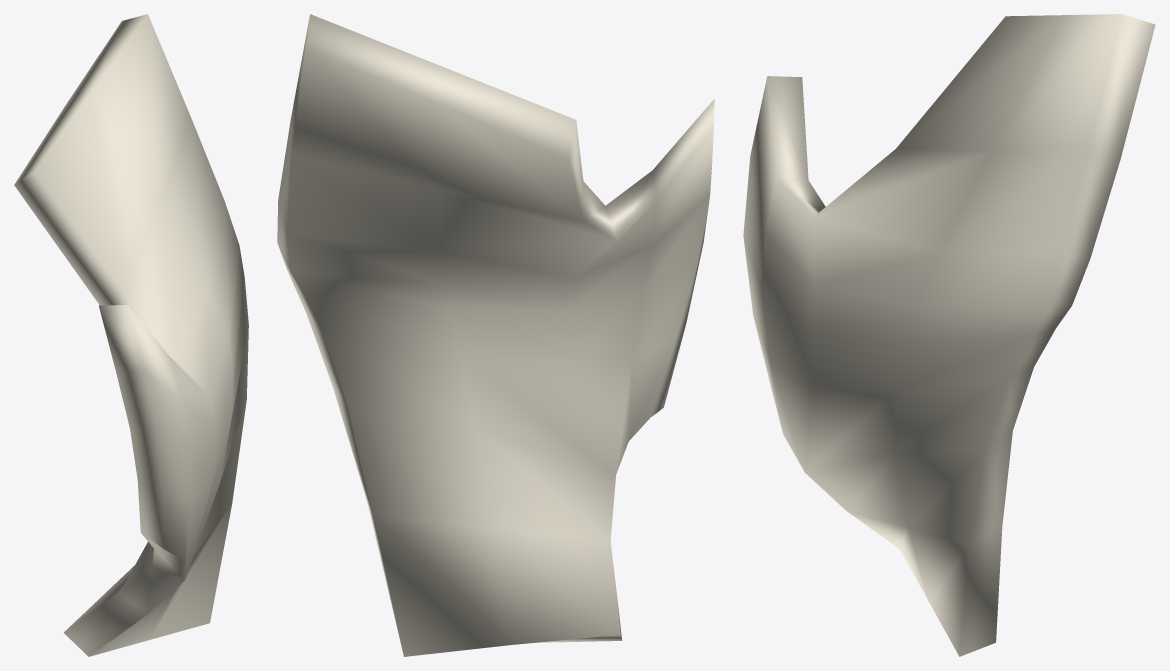
The picture shows the model from 3 angles, left to right: view 1: azimuth 30°, elevation 25°; view 2: azimuth 150°, elevation 25°; view 3: azimuth 270°, elevation 25°; orthographic projection. The views are drawn at different scales.
Visible parts, largest first — view 1: ZA_4bf8acf5245b0d05; view 2: ZA_4bf8acf5245b0d05; view 3: ZA_4bf8acf5245b0d05.
Part boxes in pixels (x1=…): ZA_4bf8acf5245b0d05: x1=14, y1=14, x2=248, y2=656; ZA_4bf8acf5245b0d05: x1=277, y1=14, x2=714, y2=656; ZA_4bf8acf5245b0d05: x1=743, y1=14, x2=1155, y2=656.
Bounding box in the file's own units: 0.00399 × 0.00863 × 0.00498.
